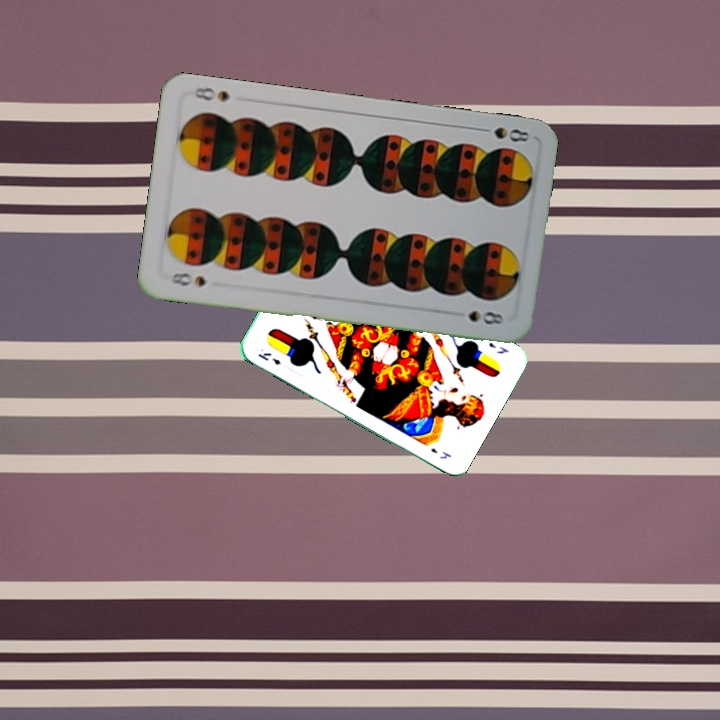EK: (254, 348, 283, 368), (485, 338, 511, 357)
S8: (473, 123, 532, 145), (167, 268, 209, 289)
